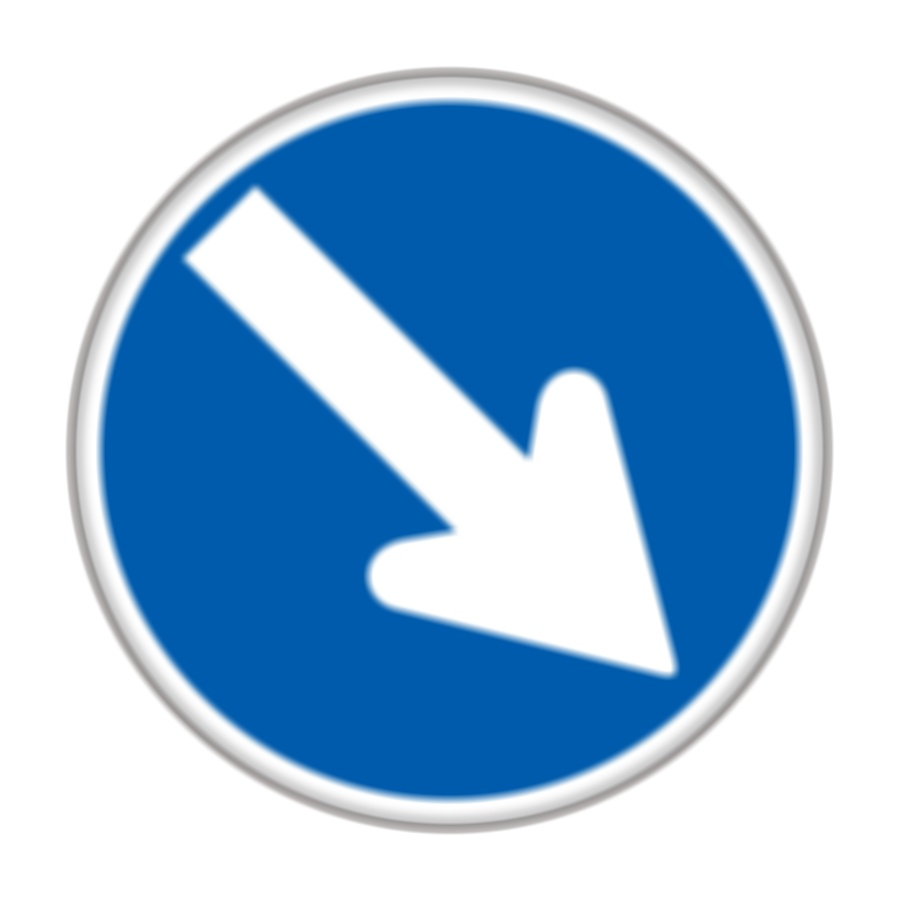Direction_sign: (39, 57, 861, 859)
